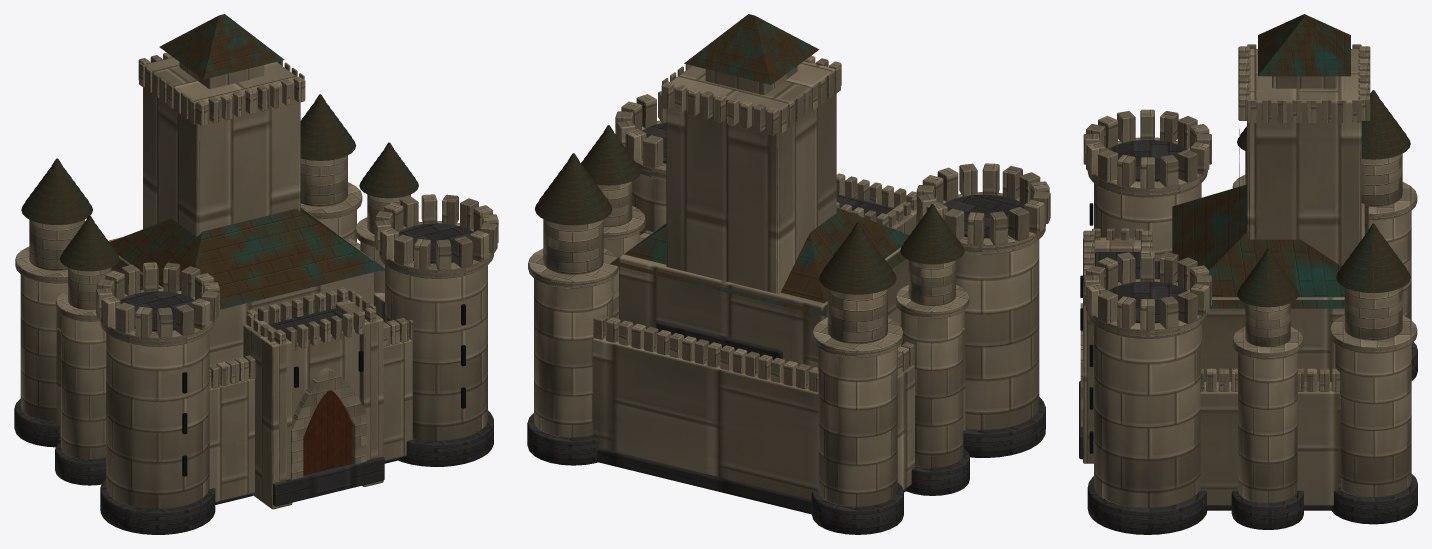
3 views of the same model, side by side, from view 1: azimuth 30°, elevation 25°; view 2: azimuth 150°, elevation 25°; view 3: azimuth 270°, elevation 25° (orthographic). The views are drawn at different scales.
Parts seen in each view (by area): view 1: WK_Hegemony_Hero_Castle_LOD2_Compact; view 2: WK_Hegemony_Hero_Castle_LOD2_Compact; view 3: WK_Hegemony_Hero_Castle_LOD2_Compact.
Part boxes in pixels (left/top/right/bottom): WK_Hegemony_Hero_Castle_LOD2_Compact: left=14, top=14, right=498, bottom=534; WK_Hegemony_Hero_Castle_LOD2_Compact: left=527, top=14, right=1050, bottom=534; WK_Hegemony_Hero_Castle_LOD2_Compact: left=1079, top=14, right=1417, bottom=534.
Bounding box in the file's own units: 13.34 × 13.47 × 9.76.
Materials: 1 (1 with a texture image).
